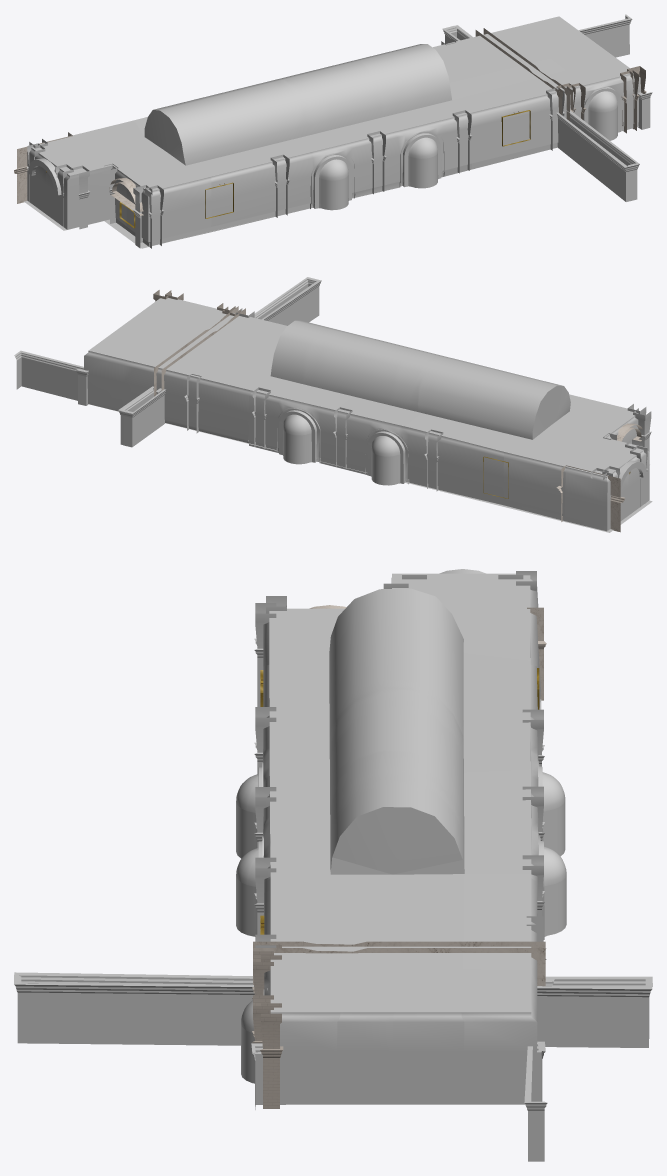
Rendered from Level.fbx.
The picture shows the model from 3 angles, top to bottom: view 1: azimuth 30°, elevation 25°; view 2: azimuth 150°, elevation 25°; view 3: azimuth 270°, elevation 25°; orthographic projection. The views are drawn at different scales.
Parts seen in each view (by area): view 1: polySurface1, pasted__polySurface56, polySurface27, polySurface29, arch:polySurface22, pasted__polySurface53, pasted__polySurface54, Muur, pasted__polySurface18, pasted__polySurface43, Vloer, pasted__polySurface58 (+7 smaller); view 2: polySurface1, pasted__polySurface53, polySurface33, polySurface31, pasted__polySurface55, pasted__polySurface56, pasted__polySurface18, Muur, Vloer, pasted__polySurface54, pasted__polySurface52, pasted__polySurface42; view 3: polySurface1, pasted__polySurface54, pasted__polySurface52, Muur, pasted__polySurface56, polySurface33, pasted__polySurface59, polySurface27, polySurface31, polySurface29, pasted__polySurface53, pasted__polySurface55 (+3 smaller).
Boxes of the visible parts, x1,y1,x2,y2 form: polySurface1: (27,16,640,246); pasted__polySurface56: (556,112,636,201); polySurface27: (399,131,444,188); polySurface29: (310,153,355,210); arch:polySurface22: (583,86,622,140); pasted__polySurface53: (578,14,632,57); pasted__polySurface54: (566,110,639,201); Muur: (475,28,569,121); pasted__polySurface18: (14,132,72,203); pasted__polySurface43: (71,165,90,229); Vloer: (24,130,621,248); pasted__polySurface58: (620,70,639,133); polySurface1: (84,295,649,531); pasted__polySurface53: (14,350,161,400); polySurface33: (276,408,320,464); polySurface31: (365,429,409,485); pasted__polySurface55: (121,389,165,447); pasted__polySurface56: (261,280,321,325); pasted__polySurface18: (556,465,625,532); Muur: (154,306,245,396); Vloer: (88,404,652,532); pasted__polySurface54: (254,277,318,319); pasted__polySurface52: (118,386,153,445); pasted__polySurface42: (633,408,651,451); polySurface1: (263,573,540,1104); pasted__polySurface54: (14,975,254,1045); pasted__polySurface52: (537,980,652,1047); Muur: (253,941,545,986); pasted__polySurface56: (14,972,252,984); polySurface33: (538,835,566,939); pasted__polySurface59: (260,1003,283,1108); polySurface27: (236,836,263,936); polySurface31: (538,760,565,856); polySurface29: (236,762,263,858); pasted__polySurface53: (524,979,554,1161); pasted__polySurface55: (545,976,652,1038).
Size of the model in its own units: 15.8 by 2.33 by 8.34.
